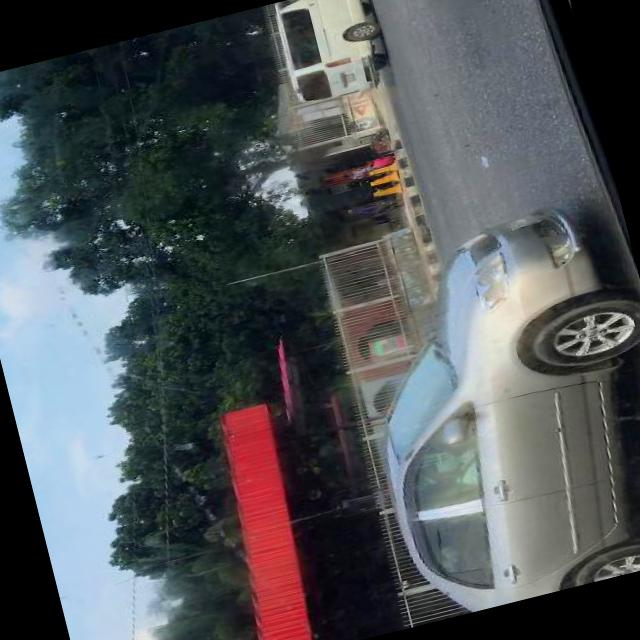car: (328, 186, 640, 623)
truck: (267, 0, 400, 110)
